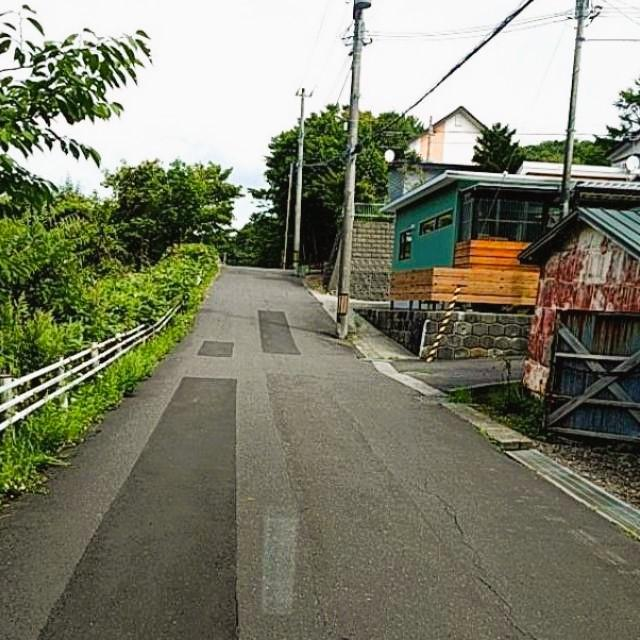Sambungan: (36, 377, 241, 640), (259, 311, 300, 354), (200, 338, 232, 356)
